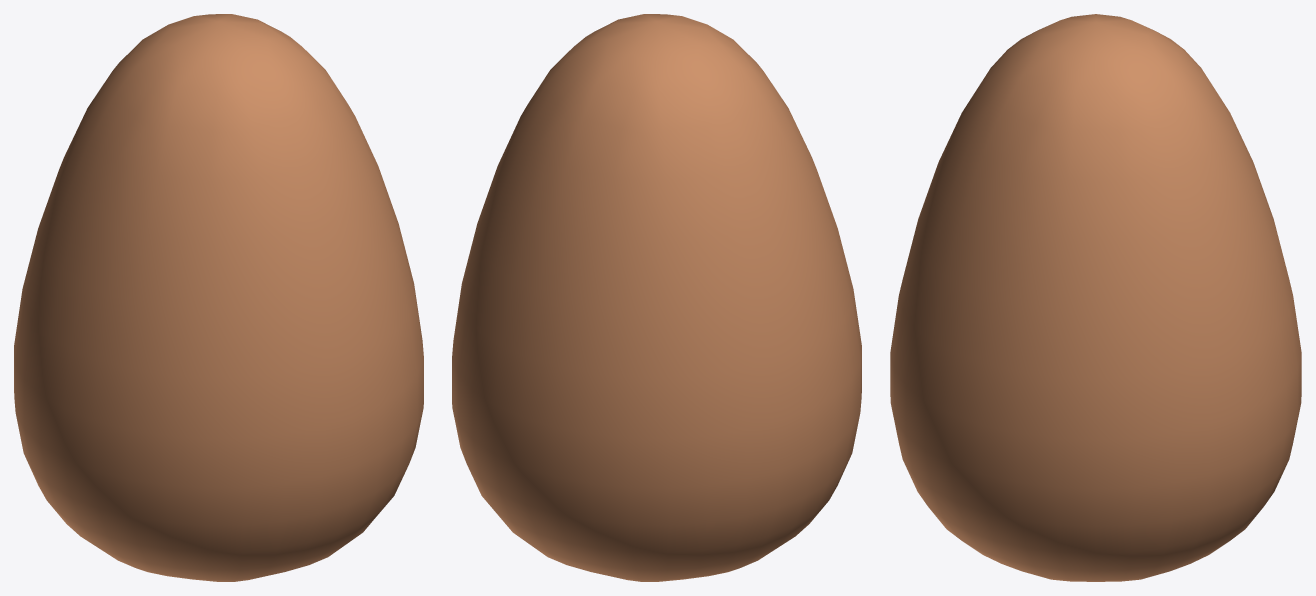
File: egg.gltf
3 renders of one model, left to right at view 1: azimuth 30°, elevation 25°; view 2: azimuth 150°, elevation 25°; view 3: azimuth 270°, elevation 25°, orthographic.
Parts seen in each view (by area): view 1: 球体; view 2: 球体; view 3: 球体.
Part boxes in pixels (<box>): 球体: <box>14,14,423,581</box>; 球体: <box>452,14,861,581</box>; 球体: <box>890,14,1301,581</box>.
Bounding box in the file's own units: 1.51 × 2.17 × 1.51.
